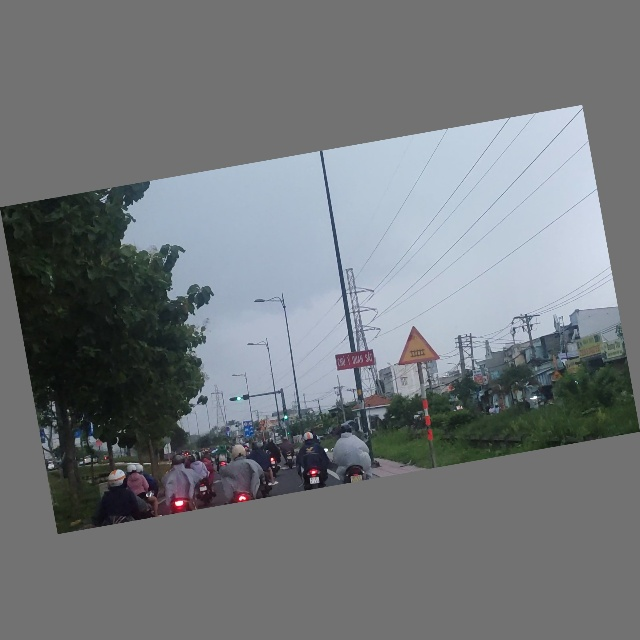W.210: (393, 323, 440, 367)
